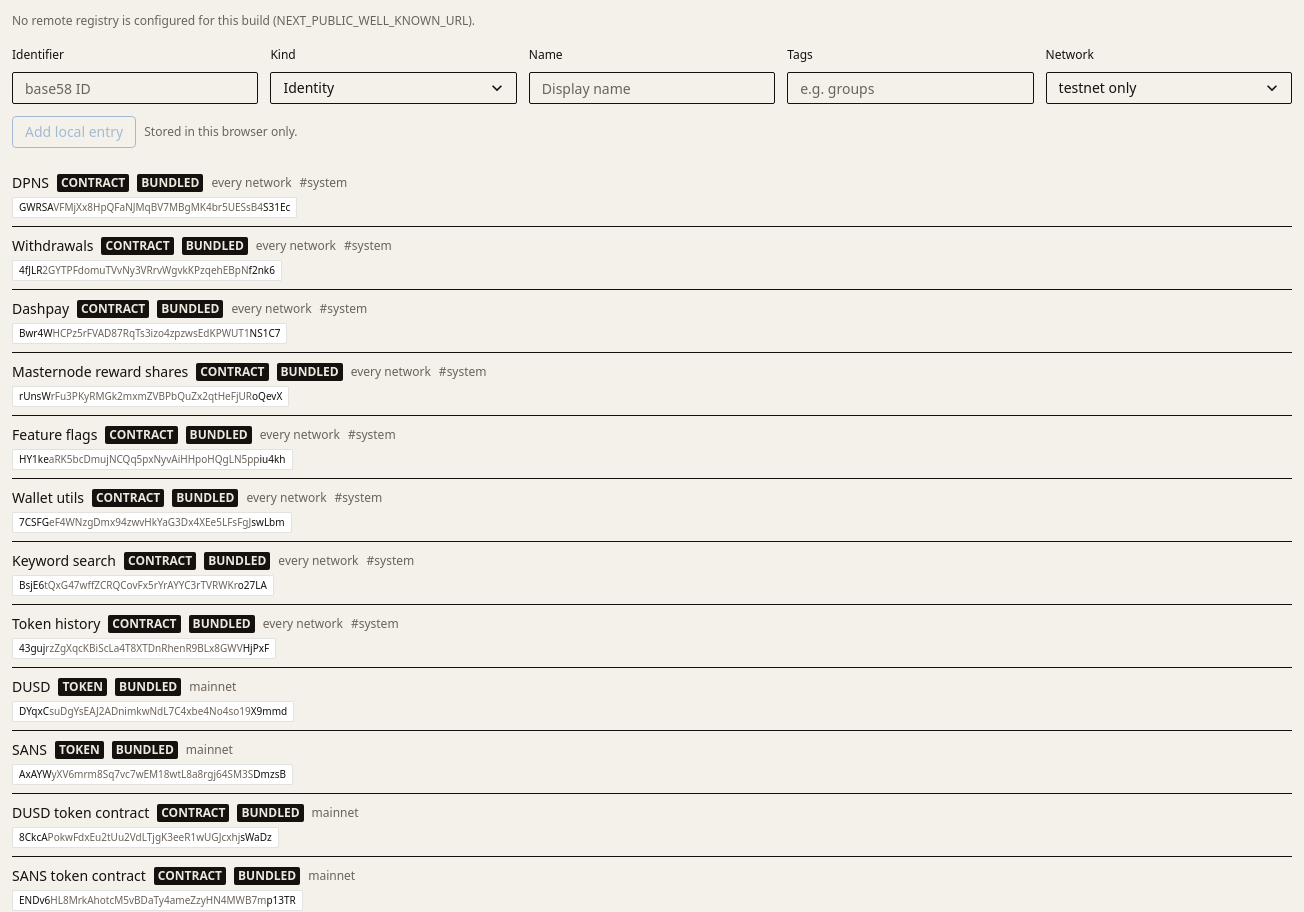
Test: well-known registry settings › explains why an entry was refused
Type "GWRSAVFMjXx8HpQFaNJMqBV7MBgMK4br5UESsB4S31Ec" into the field labelled "Identifier".
click(135, 88); type("GWRSAVFMjXx8HpQFaNJMqBV7MBgMK4br5UESsB4S31Ec")  # box x1=12 y1=72 x2=258 y2=104
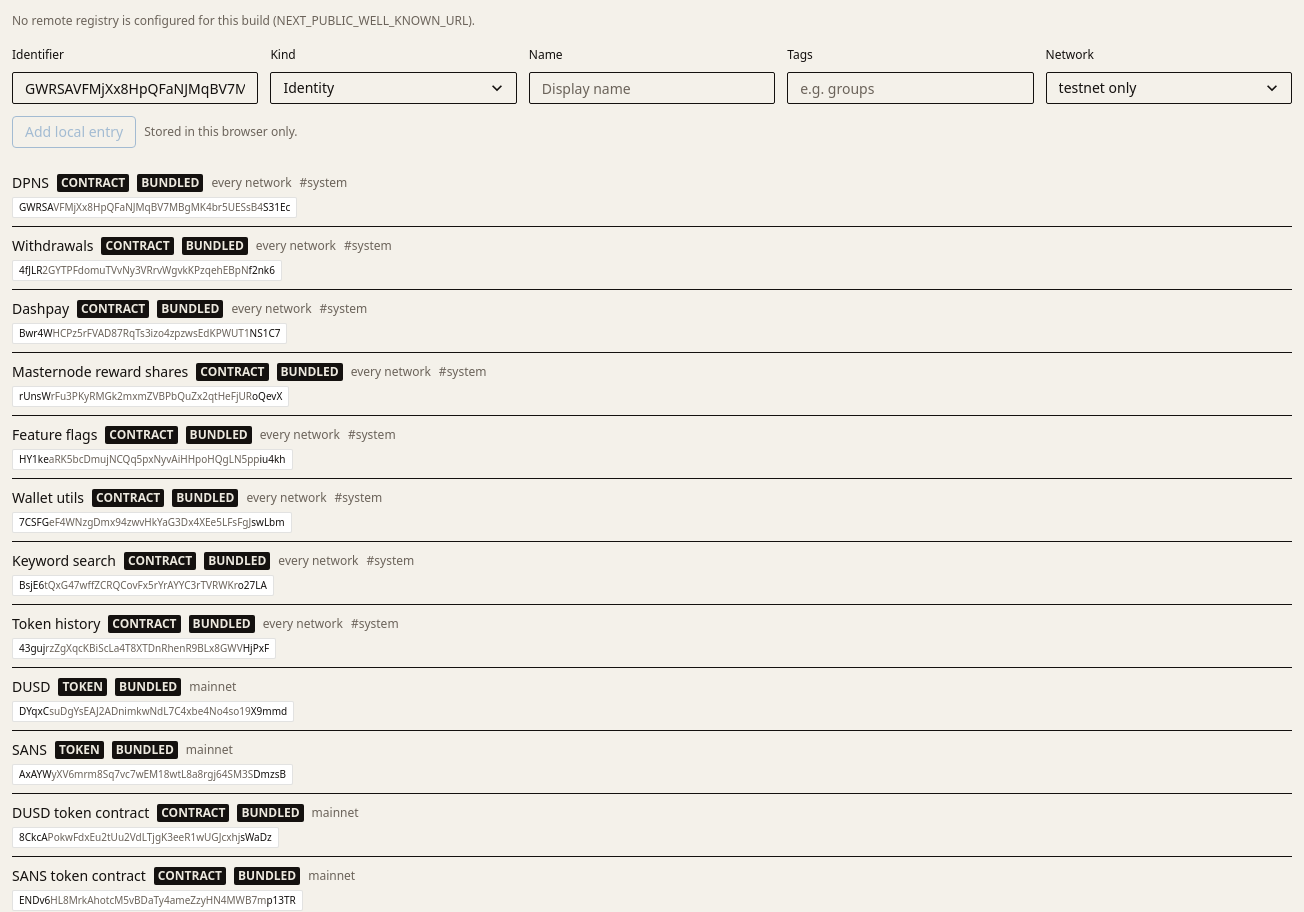
Type "Mine" into the field labelled "Name".
click(652, 88); type("Mine")  # box x1=529 y1=72 x2=775 y2=104
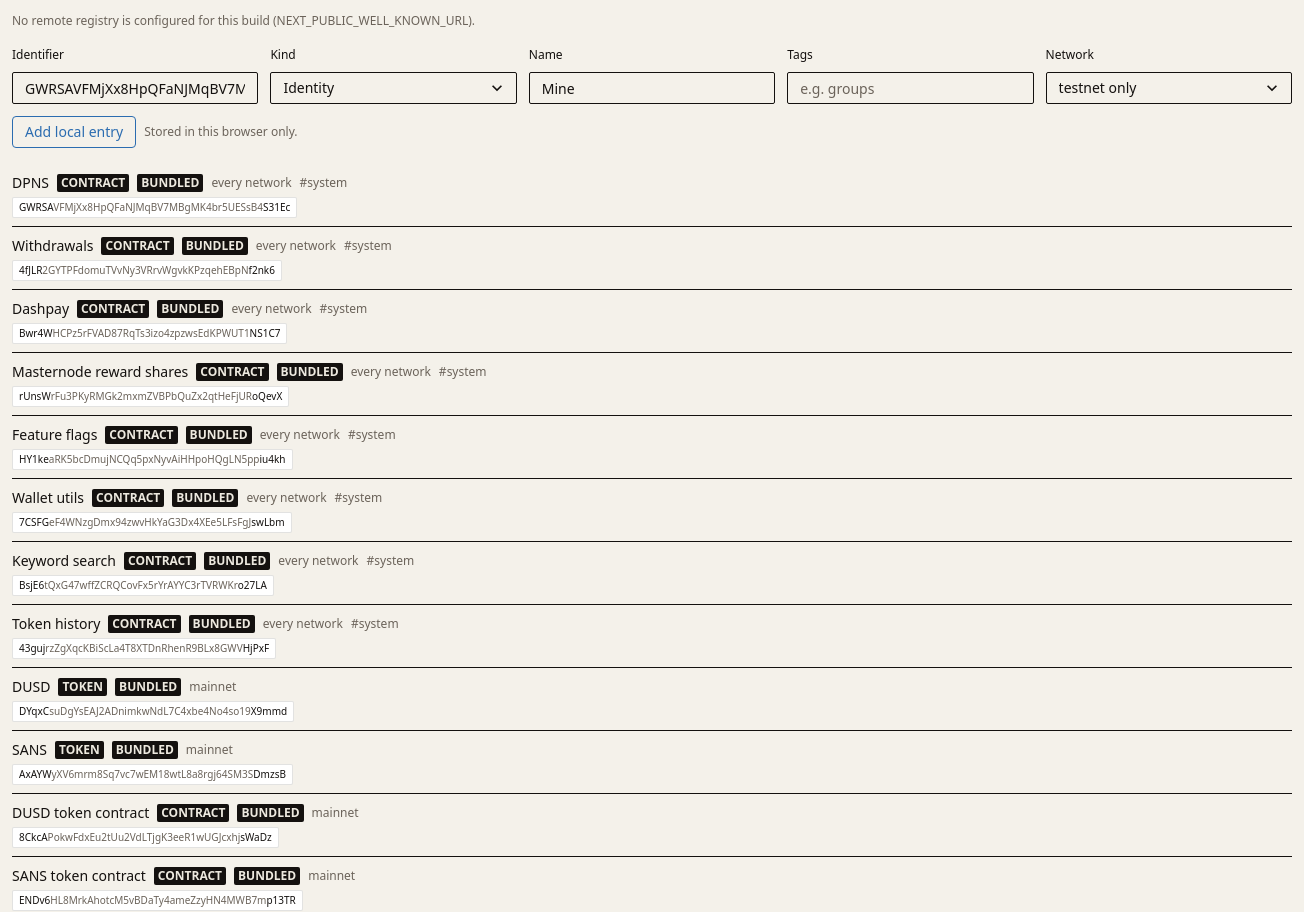
Click the button "Add local entry".
click(74, 132)  # box x1=12 y1=116 x2=136 y2=148
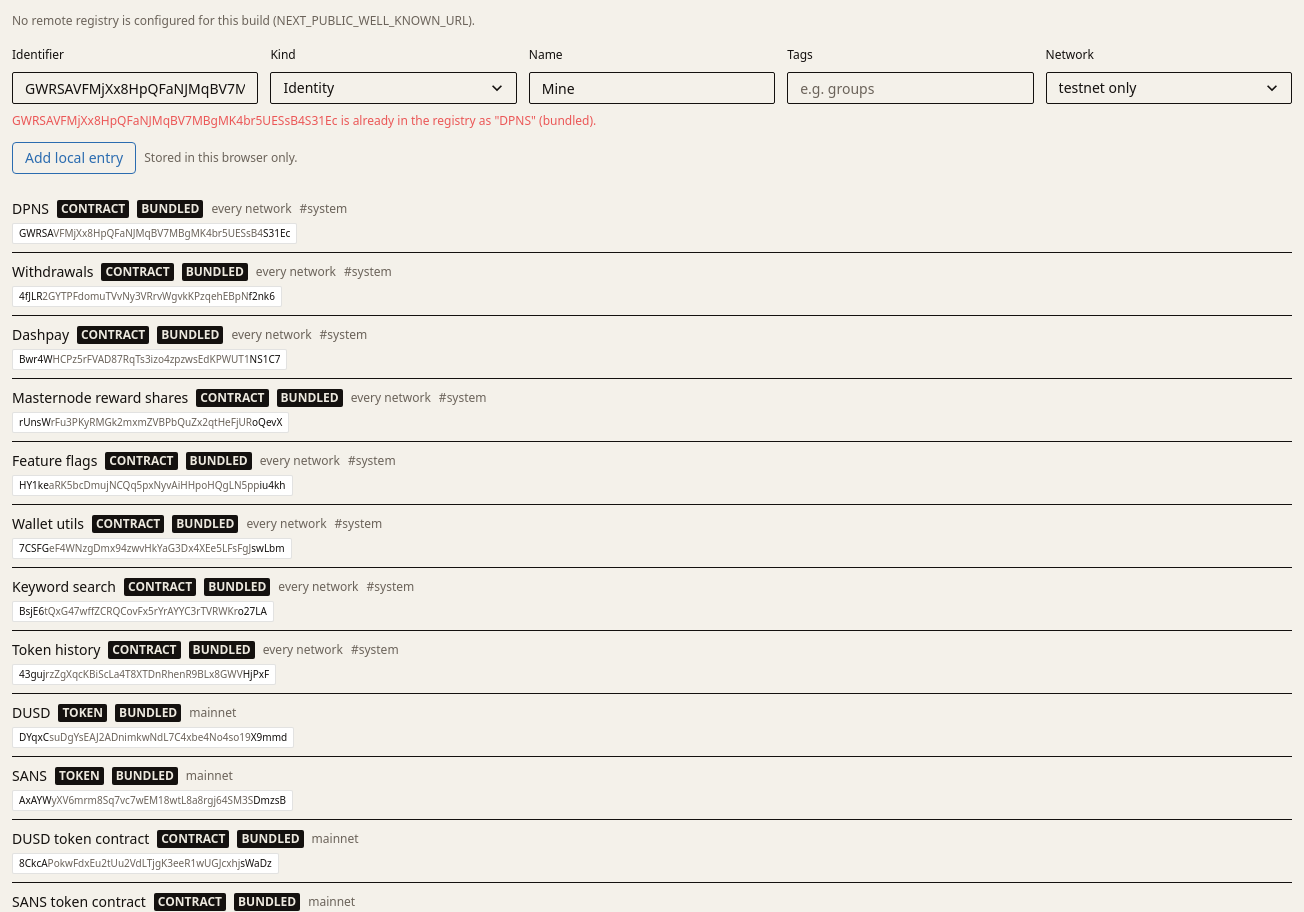
Now the text "already in the registry as \"DPNS\" (bundled)" is shown, box x1=12 y1=112 x2=596 y2=129
